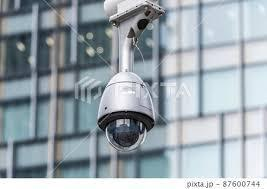maru: (96, 70, 158, 154)
